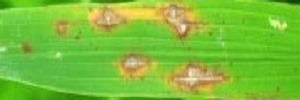RiceBlast: (170, 60, 227, 97), (156, 4, 205, 42), (112, 50, 156, 83), (83, 5, 133, 33), (53, 18, 73, 39)
